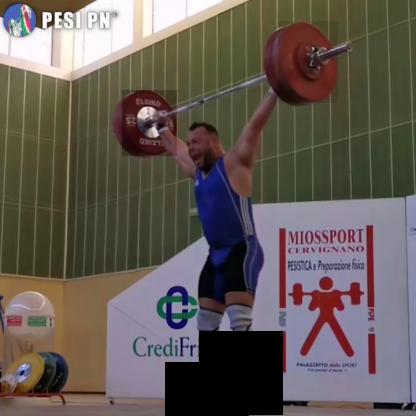barbell: (279, 22, 339, 104), (123, 91, 178, 157)
